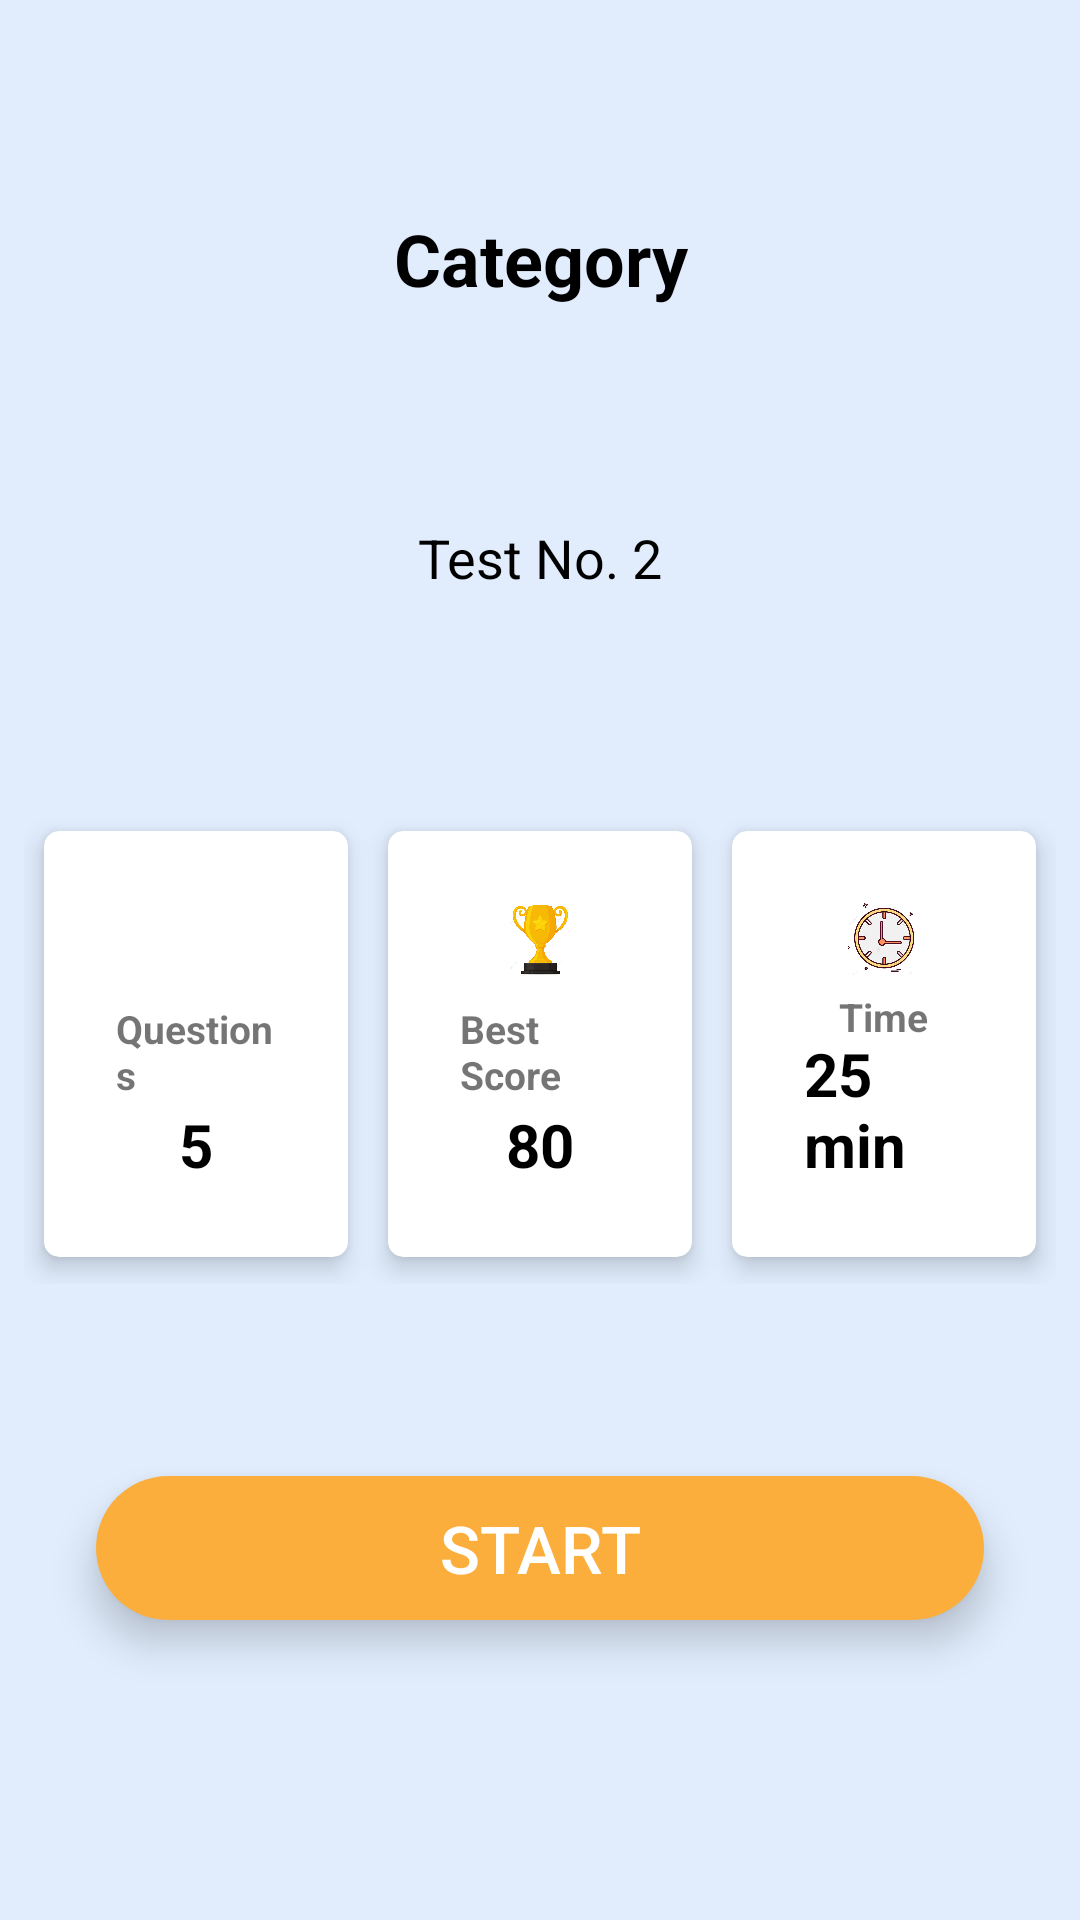

Icons on this 1080 × 1920 Android screen, each with its box as {"left": x1, "top": y1, "right": x2, "bottom": y2}:
award: {"left": 513, "top": 905, "right": 568, "bottom": 975}
clock: {"left": 848, "top": 903, "right": 914, "bottom": 972}
